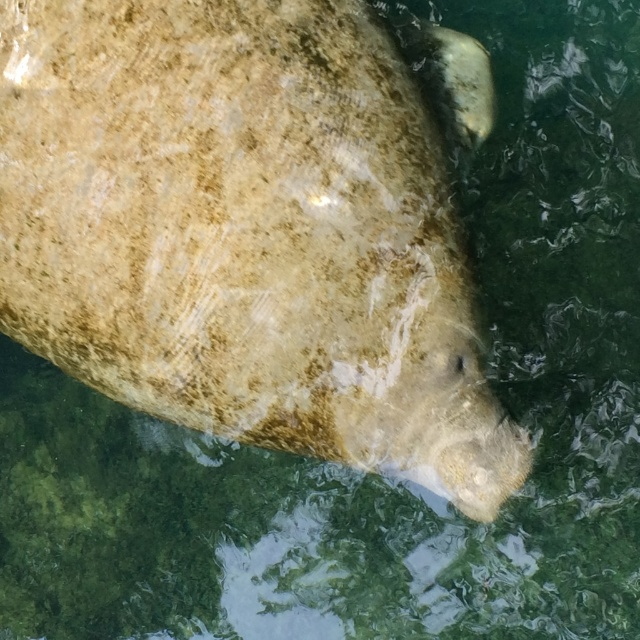Harbor seal: (0, 0, 540, 524)
